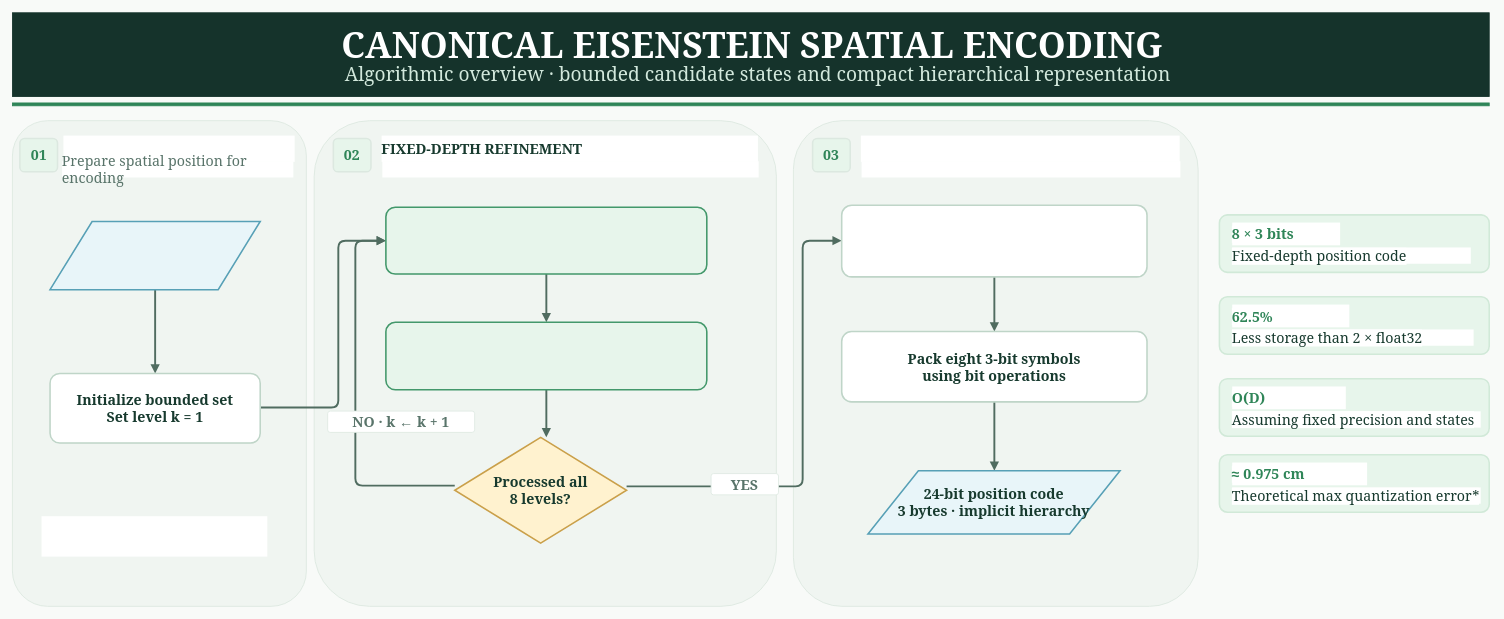
The diagram is 1504 pixels wide and 619 high, and some of its shapes have lost their labels. The shapes that lost their labels are listed below. From the top down, each one's centre as x and y in pixels, then its label:
At point (178, 148): "INPUT & SETUP".
At point (1020, 148): "CANONICAL OUTPUT".
At point (570, 169): "Maintain a bounded state set across levels".
At point (1020, 169): "Resolve equivalent paths and pack bits".
At point (155, 255): "Spatial position (x, y)".
At point (546, 240): "Generate digit candidates at refinement level k".
At point (994, 240): "Select a canonical path among equivalent encodings".
At point (546, 355): "Update bounded candidate set Constant state count per level".
At point (154, 536): "Spatial representation is based on an Eisenstein hexagonal lattice.".
